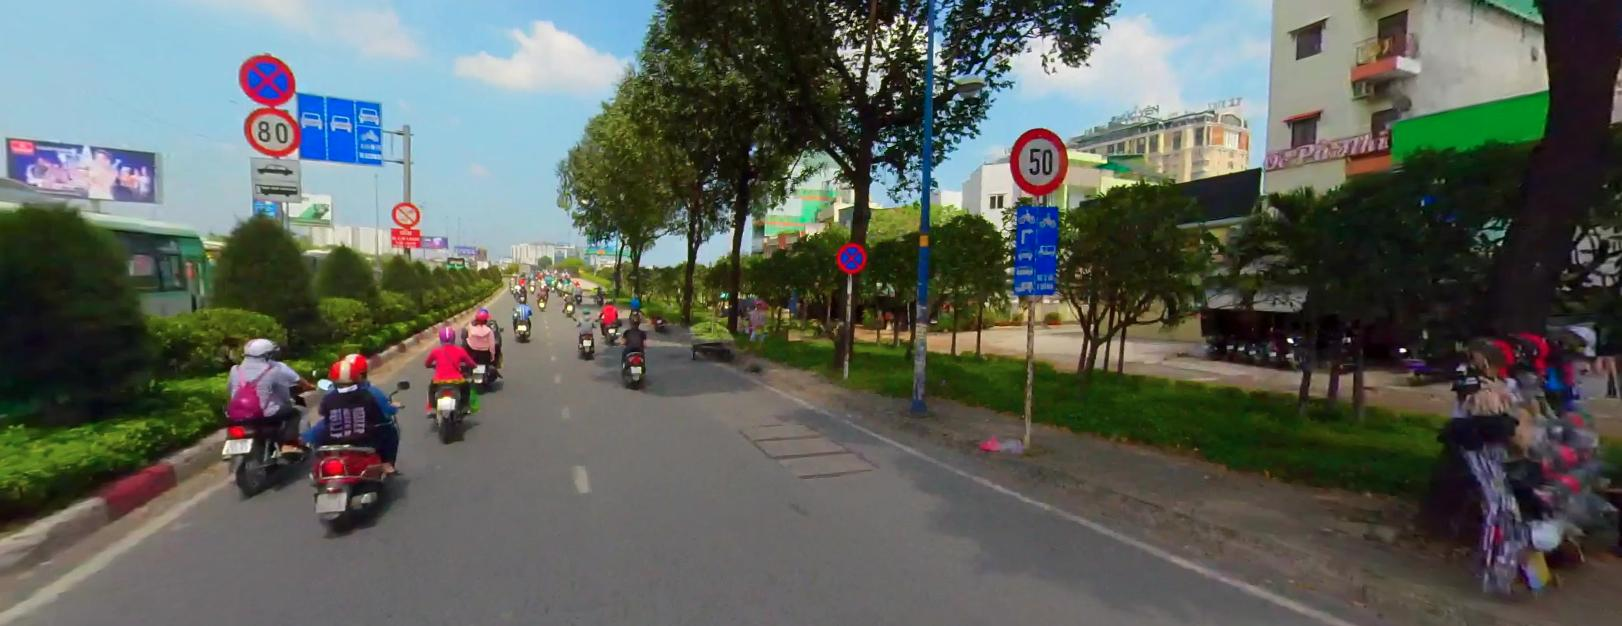Cam con lai: (390, 201, 418, 225)
Cam dung va do: (238, 55, 296, 103), (837, 241, 866, 270)
Gioi han toc do: (1009, 127, 1067, 195), (245, 108, 300, 155)
